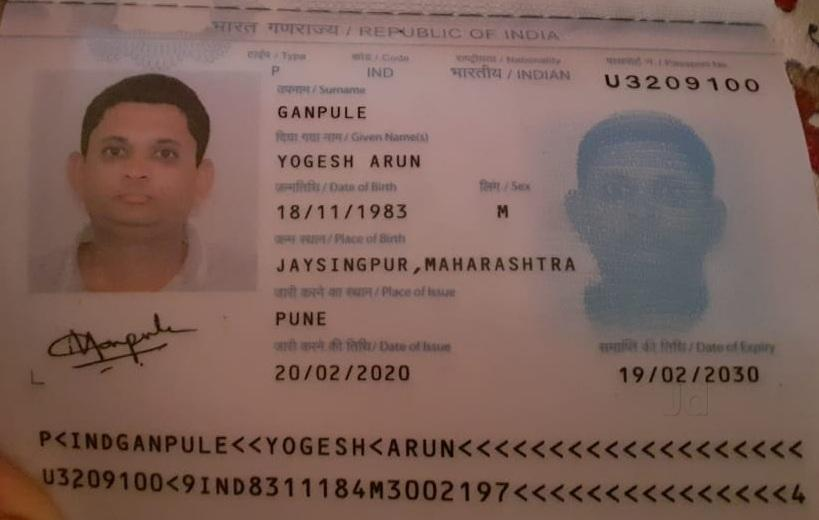DOB: (268, 195, 417, 227)
Surname: (273, 100, 394, 128)
country_code: (360, 62, 403, 83)
date_of_expiry: (616, 356, 765, 392)
date_of_issue: (263, 354, 423, 394)
details: (19, 418, 816, 513)
name: (270, 144, 429, 176)
nationality: (442, 63, 575, 91)
passport_no: (594, 66, 773, 103)
photo: (32, 68, 258, 290)
place_of_birth: (270, 248, 595, 282)
place_of_issue: (264, 303, 339, 331)
sex: (488, 197, 519, 224)
sign: (42, 312, 205, 375)
type: (265, 58, 287, 85)
